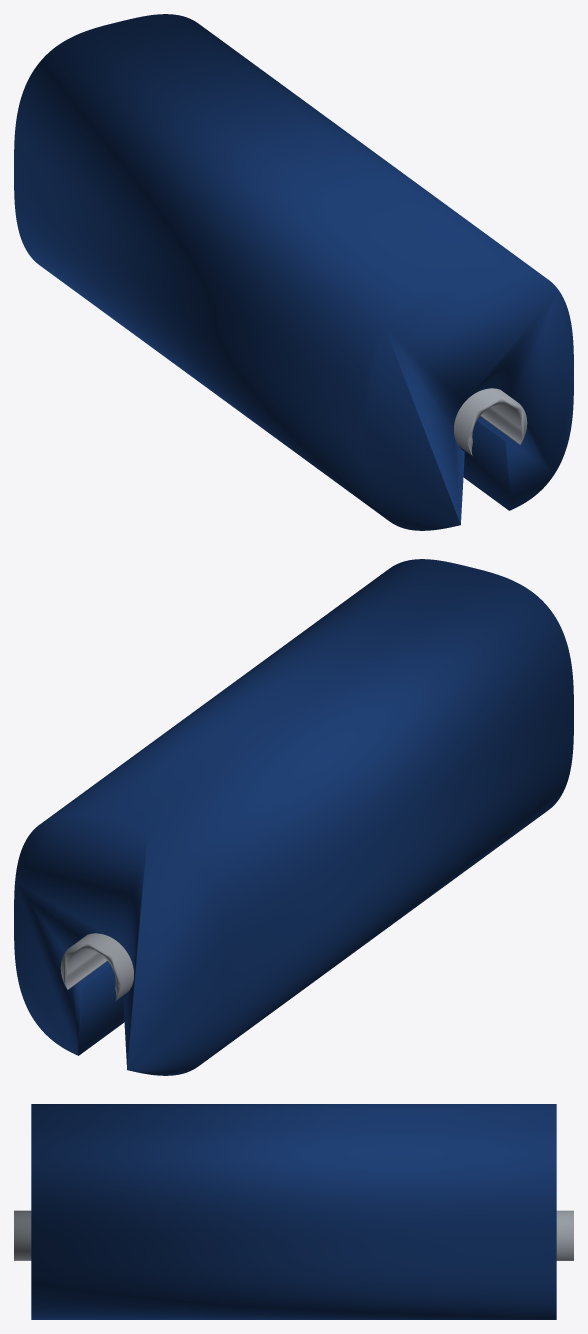
File: hcd_attachment.glb
3 views of the same model, one above another, from view 1: azimuth 30°, elevation 25°; view 2: azimuth 150°, elevation 25°; view 3: azimuth 270°, elevation 25° (orthographic). The views are drawn at different scales.
Parts seen in each view (by area): view 1: HCD_Pad, HCD_Clip; view 2: HCD_Pad, HCD_Clip; view 3: HCD_Pad, HCD_Clip.
Part boxes in pixels (<box>): HCD_Pad: <box>14,14,573,530</box>; HCD_Clip: <box>454,388,527,455</box>; HCD_Pad: <box>14,559,573,1075</box>; HCD_Clip: <box>60,933,133,1000</box>; HCD_Pad: <box>31,1104,556,1319</box>; HCD_Clip: <box>14,1210,573,1260</box>.
Size of the model in its own units: 0.104 by 0.116 by 0.32.
